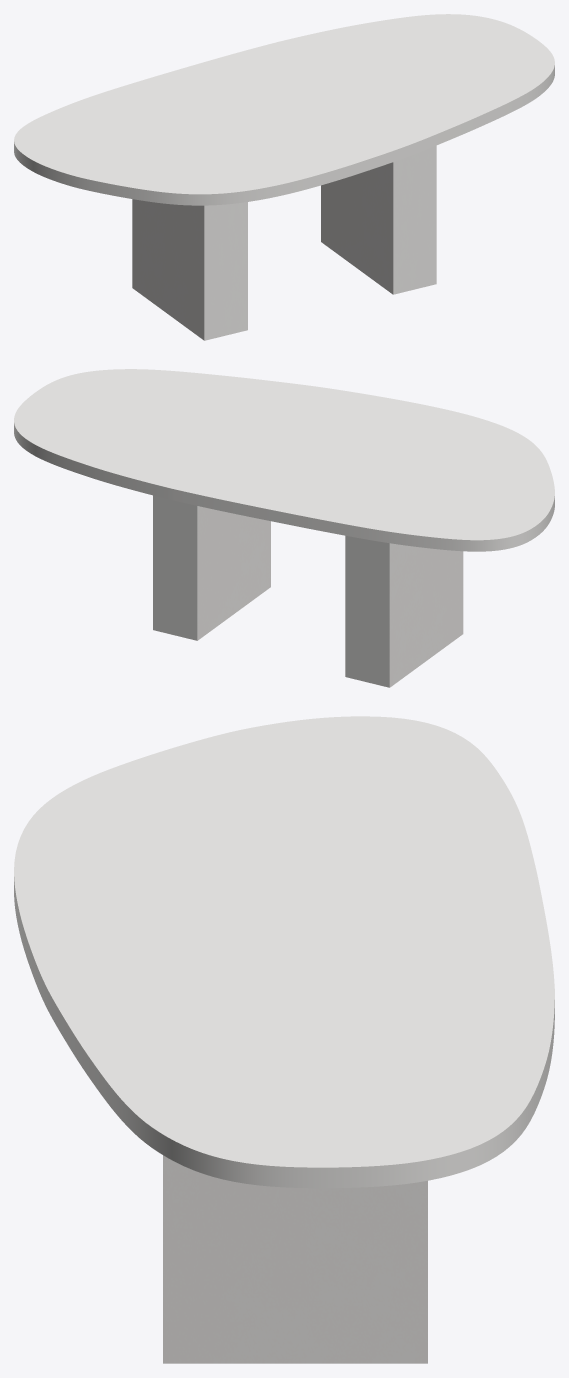
The model's file is purewhite_leaf2_standard_ridge.glb.
3 views of the same model, one above another, from view 1: azimuth 30°, elevation 25°; view 2: azimuth 150°, elevation 25°; view 3: azimuth 270°, elevation 25° (orthographic). The views are drawn at different scales.
Parts seen in each view (by area): view 1: standard_leaf2, ridge; view 2: standard_leaf2, ridge; view 3: standard_leaf2, ridge.
Part boxes in pixels (x1,y1,x2,y2): standard_leaf2: (14,14,554,205); ridge: (132,145,436,340); standard_leaf2: (14,369,554,551); ridge: (153,495,463,687); standard_leaf2: (14,716,554,1188); ridge: (163,1155,427,1363).
Size of the model in its own units: 7.5 by 2.52 by 3.8.
Materials: 1 (1 with a texture image).
